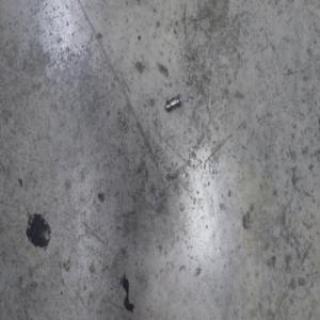Bolttrack_idkeyframe: (165, 92, 181, 112)
